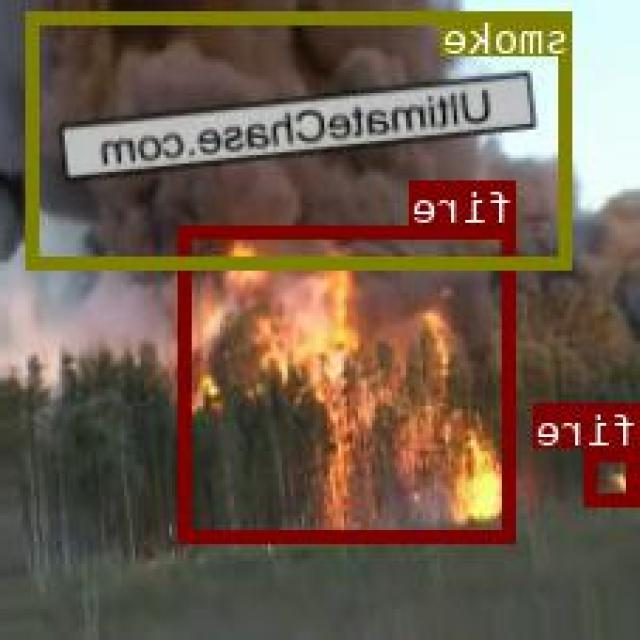fire: (181, 225, 516, 539), (586, 447, 640, 503)
smoke: (29, 10, 573, 266)
